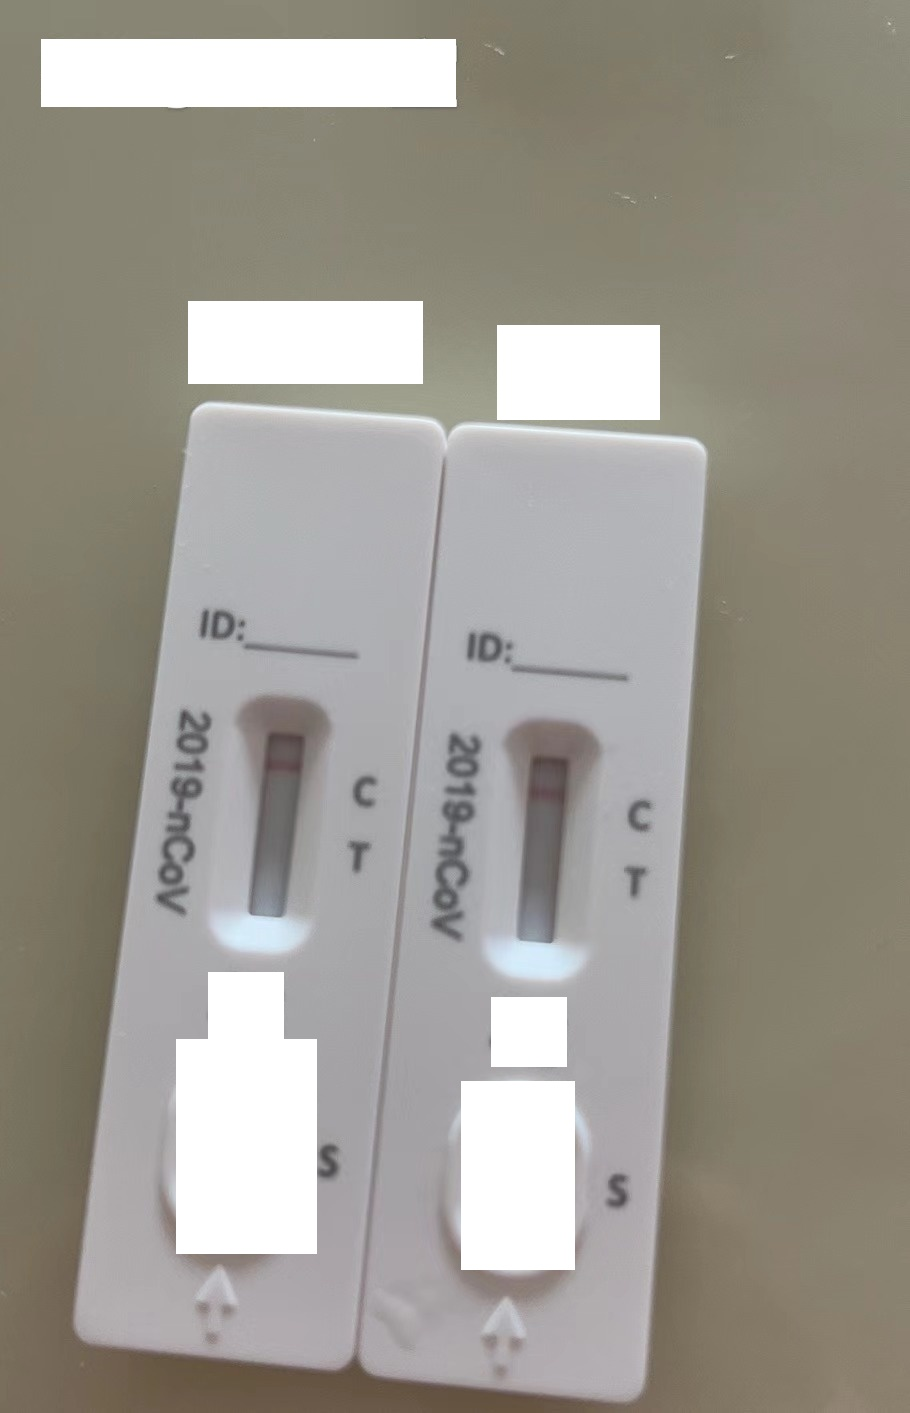negative: (234, 698, 322, 954), (504, 719, 591, 971)
